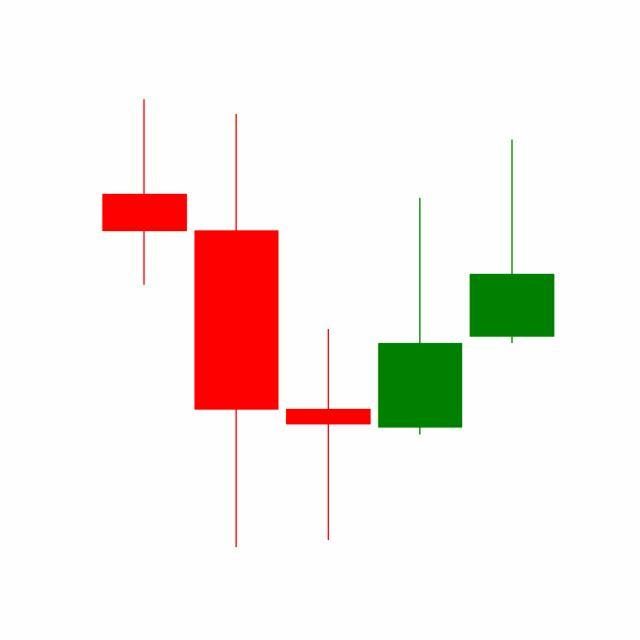Three Outside Up-Down: (280, 135, 555, 545)
